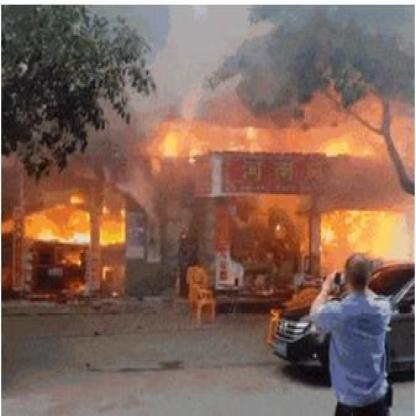fire: (10, 180, 129, 255), (316, 198, 399, 260), (154, 120, 192, 163), (321, 130, 367, 157)
